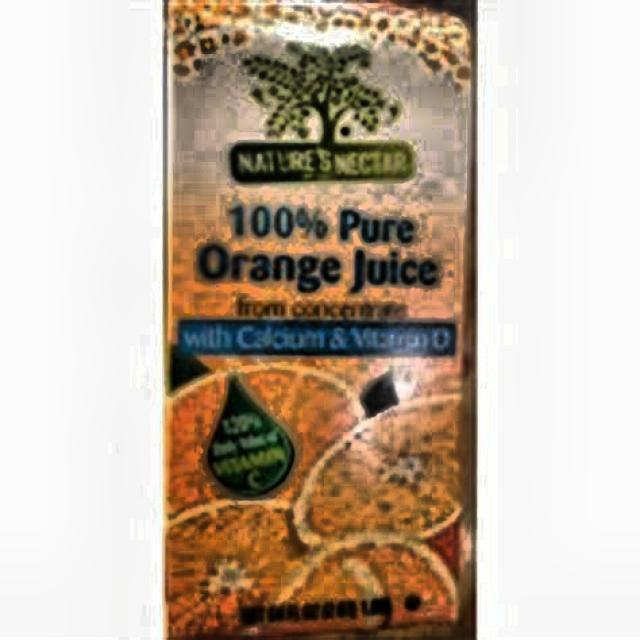cardboard: (160, 0, 478, 639)
